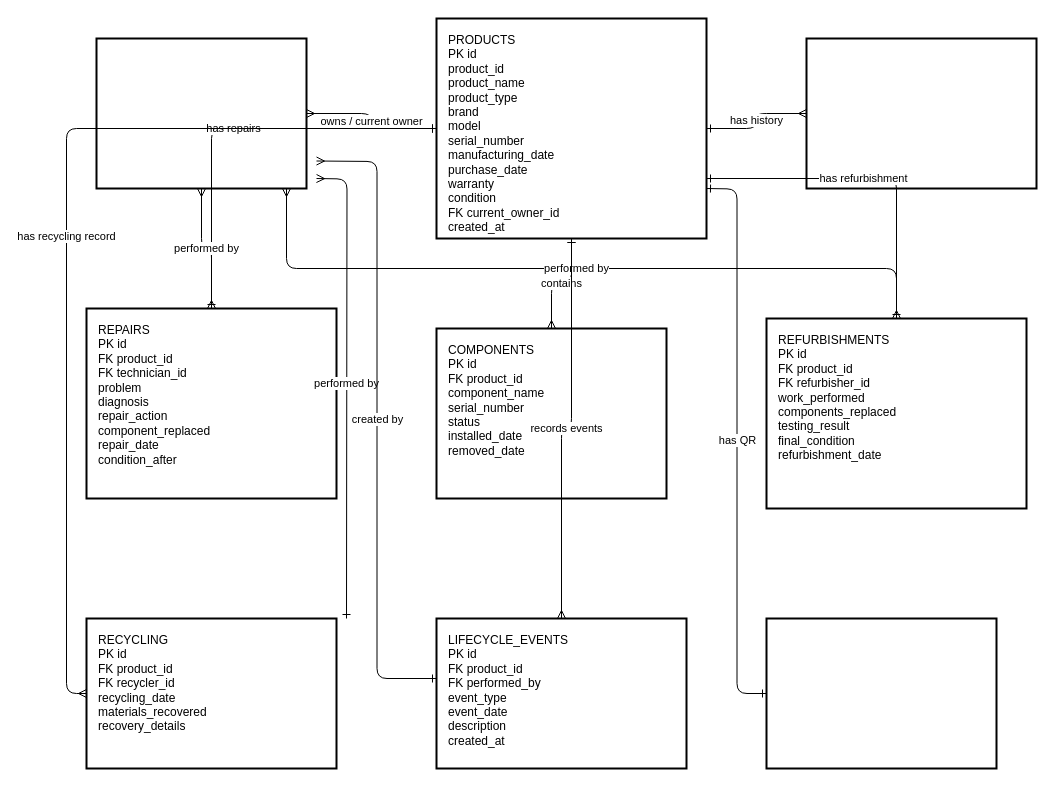
This 1054x786 diagram has some shape labels left out. Each missing label, with the box of its shape:
OWNERSHIP PK id FK product_id FK previous_owner_id FK new_owner_id transfer_date: (805, 37, 1037, 189)
QR_CODES PK id FK product_id qr_token created_at status: (765, 617, 997, 769)
USERS PK id name email password_hash role created_at: (95, 37, 307, 189)
